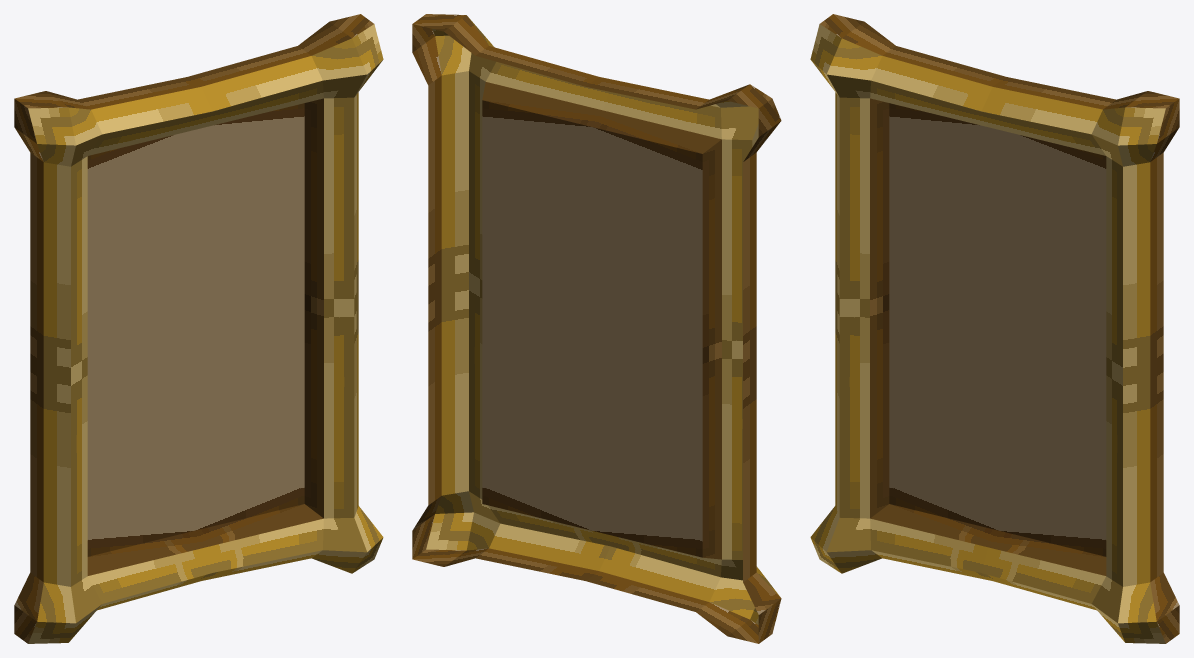
File: Model_Pictureframe.fbx
3 views of the same model, side by side, from view 1: azimuth 30°, elevation 25°; view 2: azimuth 150°, elevation 25°; view 3: azimuth 330°, elevation 25° (orthographic).
Parts seen in each view (by area): view 1: pPlane8; view 2: pPlane8; view 3: pPlane8.
Boxes of the visible parts, x1,y1,x2,y2 form: pPlane8: (14,14,383,643); pPlane8: (412,14,781,643); pPlane8: (810,14,1179,643).
Bounding box in the file's own units: 4.4 × 6.5 × 0.75.
